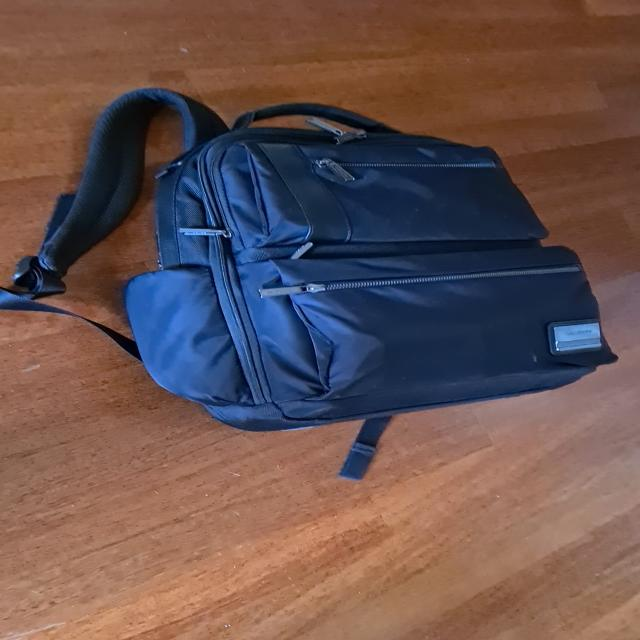backpack: (112, 96, 626, 439)
